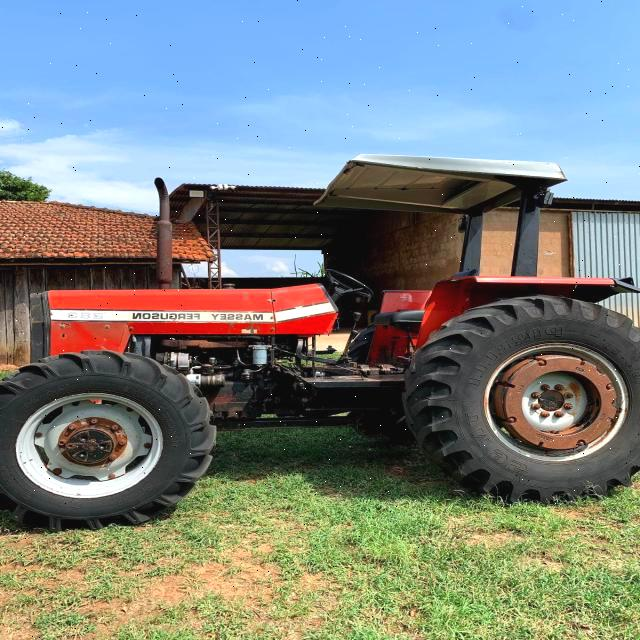Tratores - v5 YOLO V8L 2024-11-13: (0, 153, 635, 530)
